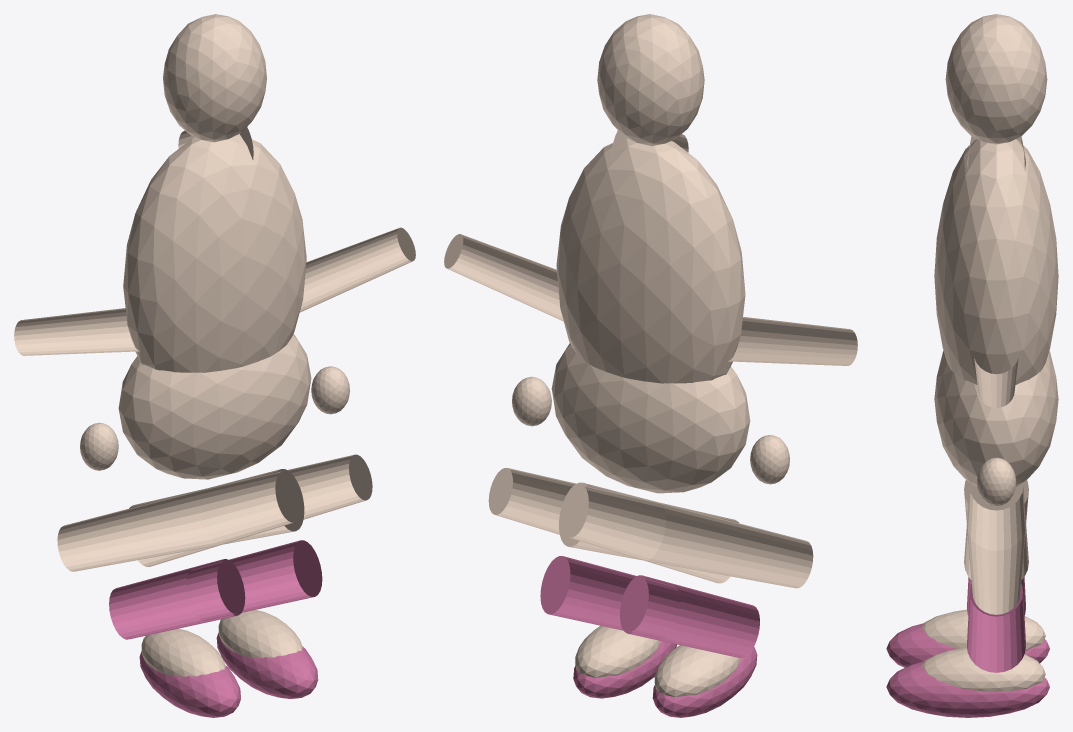
The model's file is femenino-botas.glb.
The picture shows the model from 3 angles, left to right: view 1: azimuth 30°, elevation 25°; view 2: azimuth 150°, elevation 25°; view 3: azimuth 270°, elevation 25°; orthographic projection. The views are drawn at different scales.
Visible parts, largest first — view 1: Avatar0, Prenda, Avatar1, Avatar3, Avatar4, Avatar8, Avatar10, Avatar6, Avatar5, Avatar9, Avatar7, Avatar11; view 2: Avatar0, Avatar1, Prenda, Avatar3, Avatar4, Avatar8, Avatar10, Avatar6, Avatar5, Avatar9, Avatar7, Avatar11; view 3: Avatar0, Avatar3, Prenda, Avatar1, Avatar8, Avatar9, Avatar4, Avatar5, Avatar11, Avatar10.
Boxes of the visible parts, x1=… form: Avatar0: x1=123, y1=134, x2=306, y2=372; Prenda: x1=109, y1=540, x2=322, y2=717; Avatar1: x1=118, y1=333, x2=311, y2=479; Avatar3: x1=163, y1=14, x2=266, y2=142; Avatar4: x1=57, y1=469, x2=304, y2=571; Avatar8: x1=129, y1=454, x2=372, y2=566; Avatar10: x1=299, y1=227, x2=415, y2=312; Avatar6: x1=14, y1=308, x2=139, y2=355; Avatar5: x1=141, y1=628, x2=225, y2=676; Avatar9: x1=218, y1=610, x2=302, y2=657; Avatar7: x1=80, y1=422, x2=118, y2=470; Avatar11: x1=311, y1=366, x2=349, y2=414; Avatar0: x1=556, y1=137, x2=745, y2=383; Avatar1: x1=551, y1=343, x2=750, y2=493; Prenda: x1=540, y1=556, x2=759, y2=717; Avatar3: x1=597, y1=14, x2=704, y2=145; Avatar4: x1=559, y1=482, x2=813, y2=588; Avatar8: x1=488, y1=468, x2=738, y2=583; Avatar10: x1=444, y1=234, x2=563, y2=321; Avatar6: x1=728, y1=317, x2=857, y2=365; Avatar5: x1=654, y1=645, x2=740, y2=696; Avatar9: x1=575, y1=625, x2=660, y2=677; Avatar7: x1=750, y1=435, x2=789, y2=484; Avatar11: x1=512, y1=376, x2=551, y2=426; Avatar0: x1=934, y1=139, x2=1058, y2=384; Avatar3: x1=945, y1=14, x2=1047, y2=144; Prenda: x1=886, y1=577, x2=1049, y2=717; Avatar1: x1=934, y1=351, x2=1058, y2=486; Avatar8: x1=964, y1=480, x2=1028, y2=614; Avatar9: x1=922, y1=648, x2=1045, y2=691; Avatar4: x1=964, y1=487, x2=1028, y2=579; Avatar5: x1=922, y1=609, x2=1045, y2=650; Avatar11: x1=976, y1=457, x2=1016, y2=506; Avatar10: x1=974, y1=358, x2=1018, y2=407.
Size of the model in its own units: 1.61 by 2.65 by 0.61.
